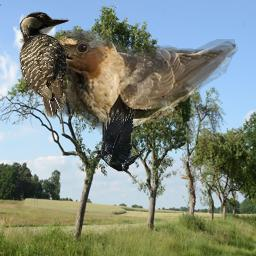Crow: (92, 105, 147, 184)
Swallow: (45, 30, 238, 135)
Woodpecker: (19, 11, 82, 120)
